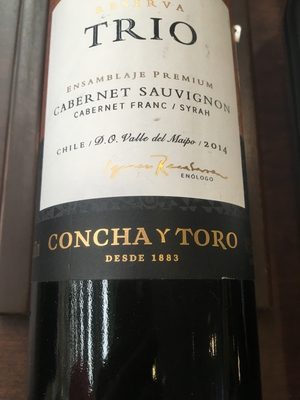trio cabernet sauvignon: (26, 1, 274, 400)
